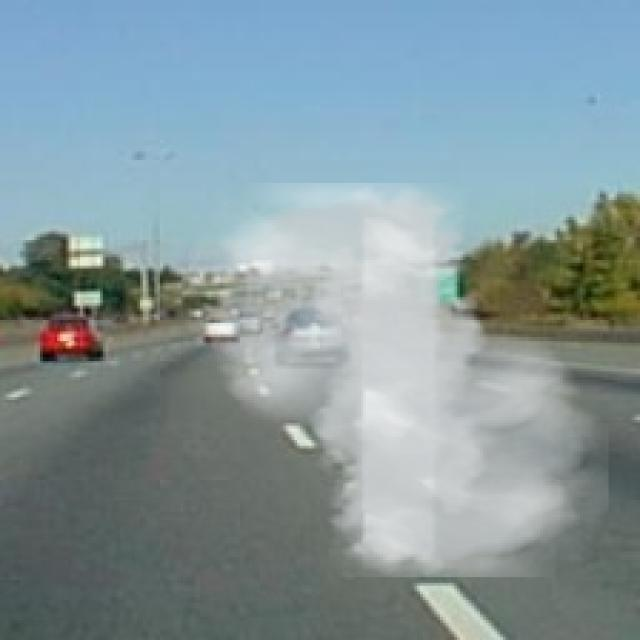smoke: (188, 183, 608, 577)
